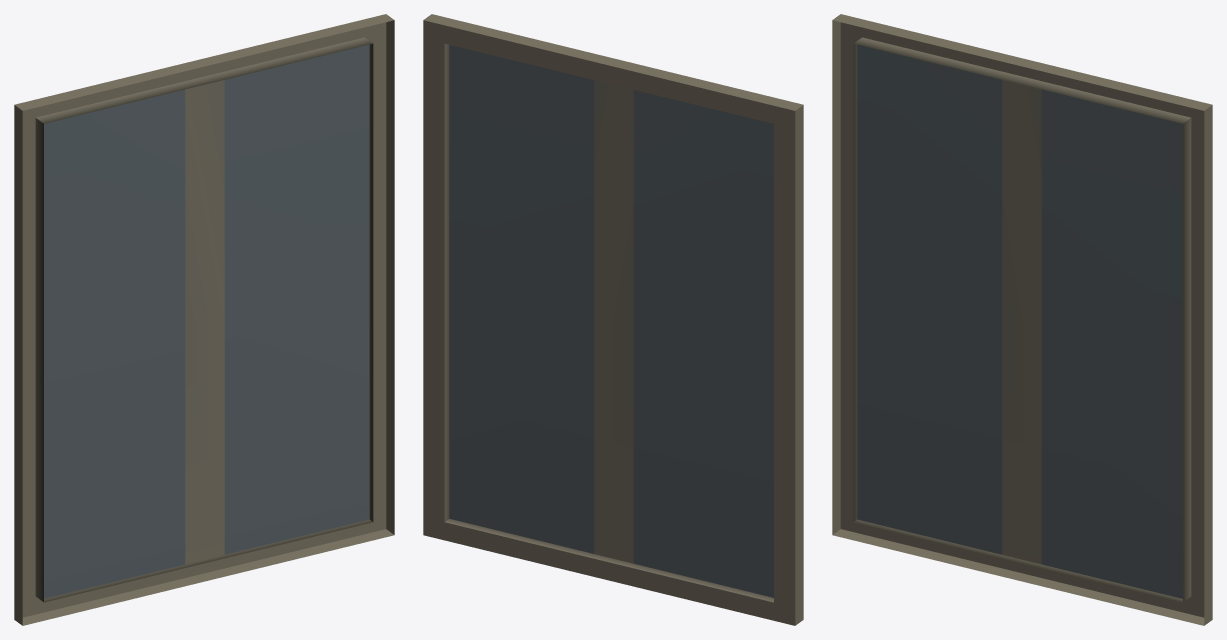
Rendered from Flat_old_window_white_1.fbx.
The picture shows the model from 3 angles, left to right: view 1: azimuth 30°, elevation 25°; view 2: azimuth 150°, elevation 25°; view 3: azimuth 330°, elevation 25°; orthographic projection.
Parts seen in each view (by area): view 1: Flat_old_window_white_1; view 2: Flat_old_window_white_1; view 3: Flat_old_window_white_1.
Boxes of the visible parts, x1,y1,x2,y2 form: Flat_old_window_white_1: [14, 14, 394, 625]; Flat_old_window_white_1: [423, 14, 803, 625]; Flat_old_window_white_1: [832, 14, 1212, 625].
Bounding box in the file's own units: 2.39 × 0.0941 × 3.16.
